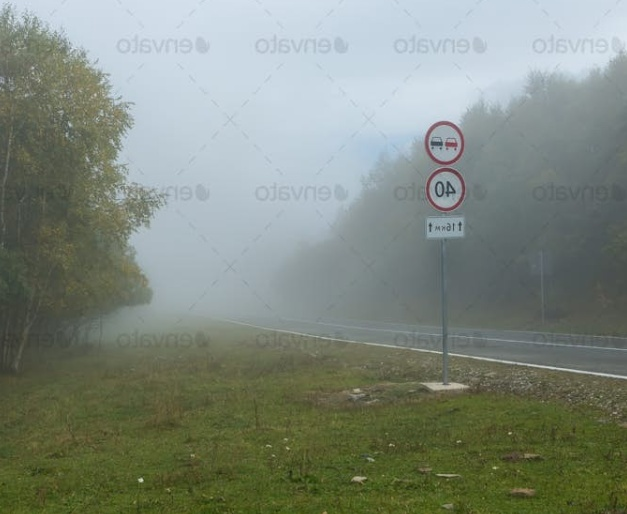No overtake: (417, 113, 469, 164)
Speed limit: (418, 163, 469, 214)
